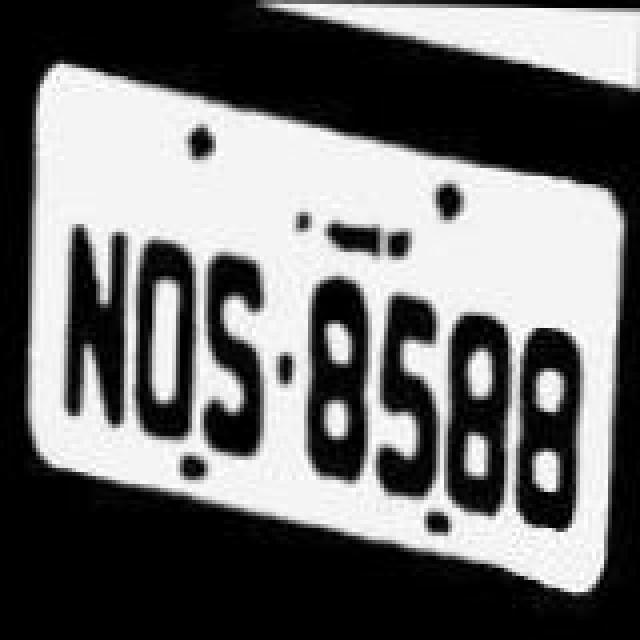5: (374, 262, 450, 514)
8: (510, 294, 594, 554), (302, 252, 382, 496), (442, 290, 518, 518)
N: (46, 218, 134, 462)
O: (126, 230, 198, 454)
S: (196, 242, 280, 470)
